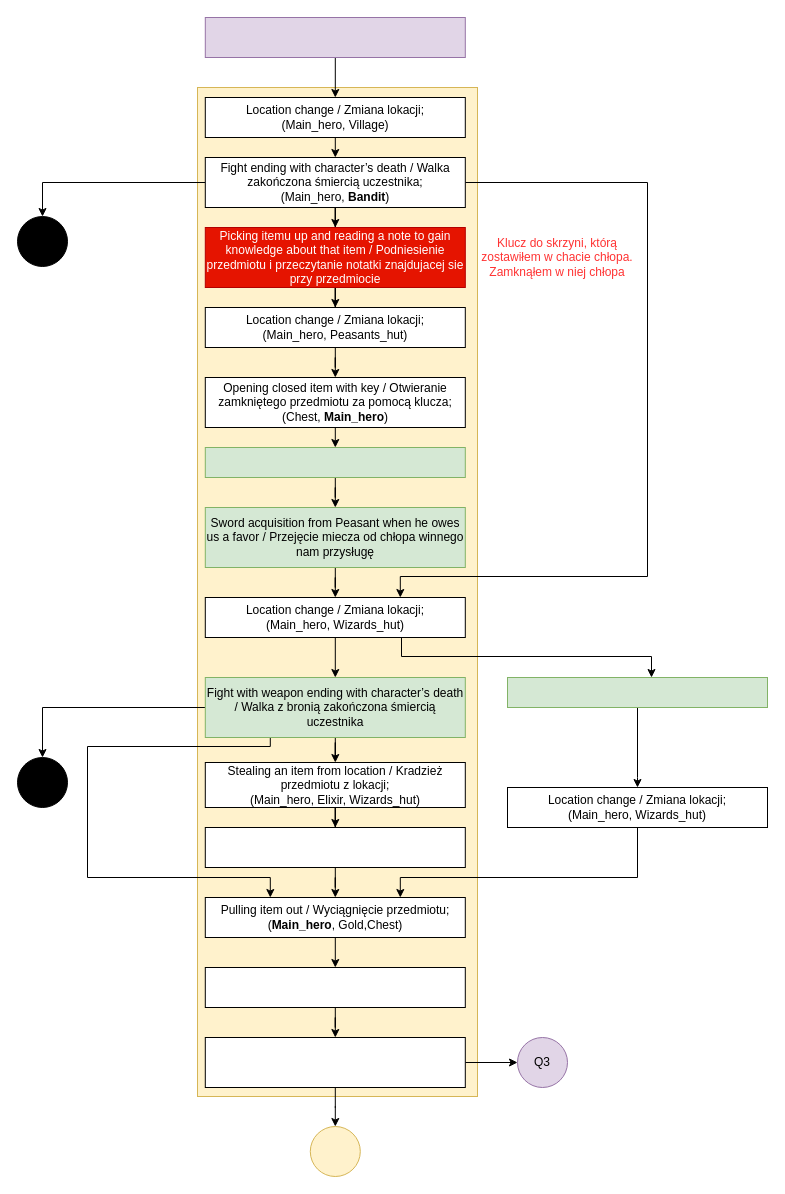
Image size: 785x1194. Some labels were removed from this diagram. The box of each missing label's shape, as (x1, y1, x2, y2) in pixels:
(Zdobycie pochodni, Q1): (204, 16, 465, 58)
Arson hut / Podpalenie chaty czarodzieja: (506, 676, 768, 708)
Location change / Zmiana lokacji; (Main_hero, Port): (204, 966, 465, 1008)
Making a barter deal / Transakcja barterowa; ( Main_hero, Gold, Merchant, Boat): (204, 1036, 465, 1088)
Nutrition / Odżywianie; (Main_hero, Elixir): (204, 826, 465, 868)
Saving Peasant / Uratowanie chłopa: (204, 446, 465, 478)
